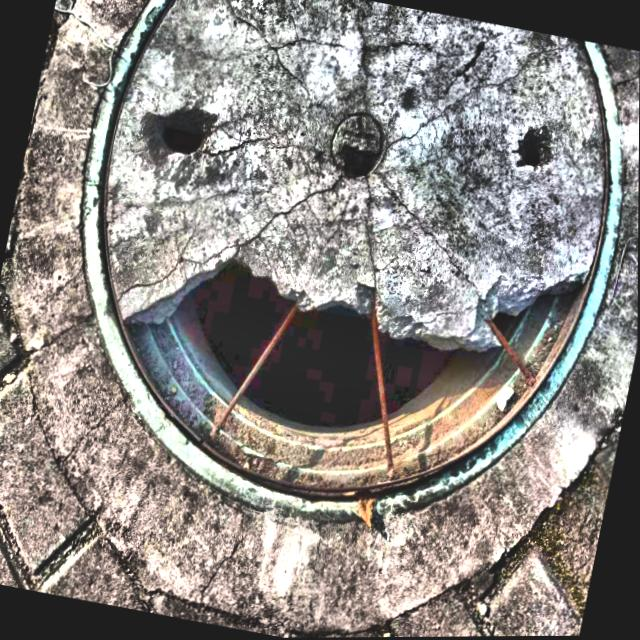Open Manhole: (84, 0, 622, 512)
